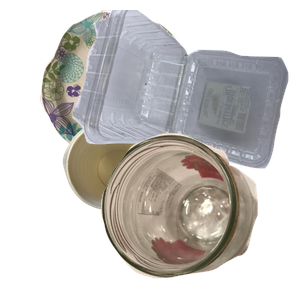glass: (98, 131, 300, 300)
paper: (37, 10, 219, 167)
plastic: (70, 10, 300, 171)
trash: (60, 120, 300, 300)
